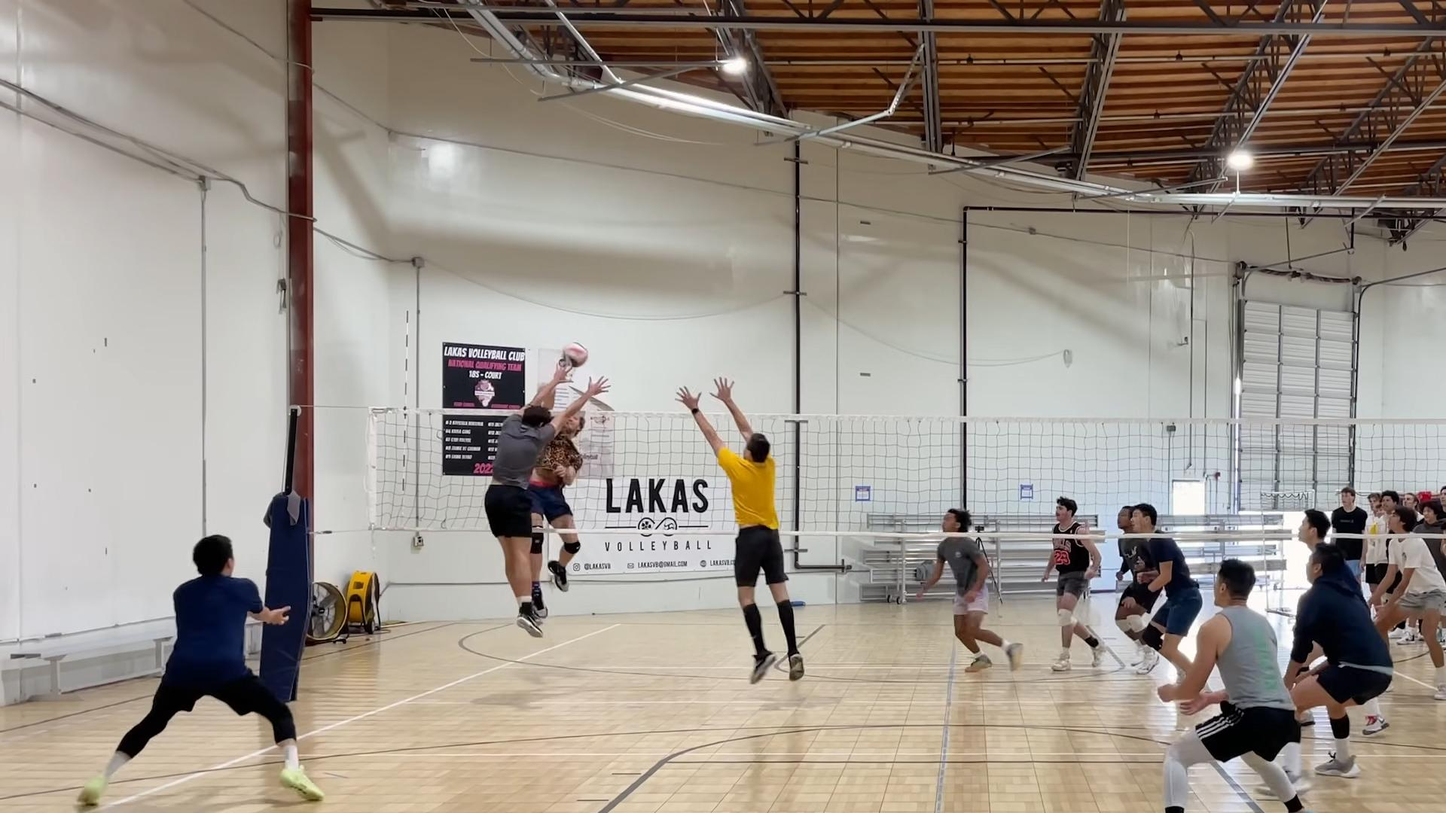muro: (474, 356, 604, 644), (693, 381, 825, 657)
